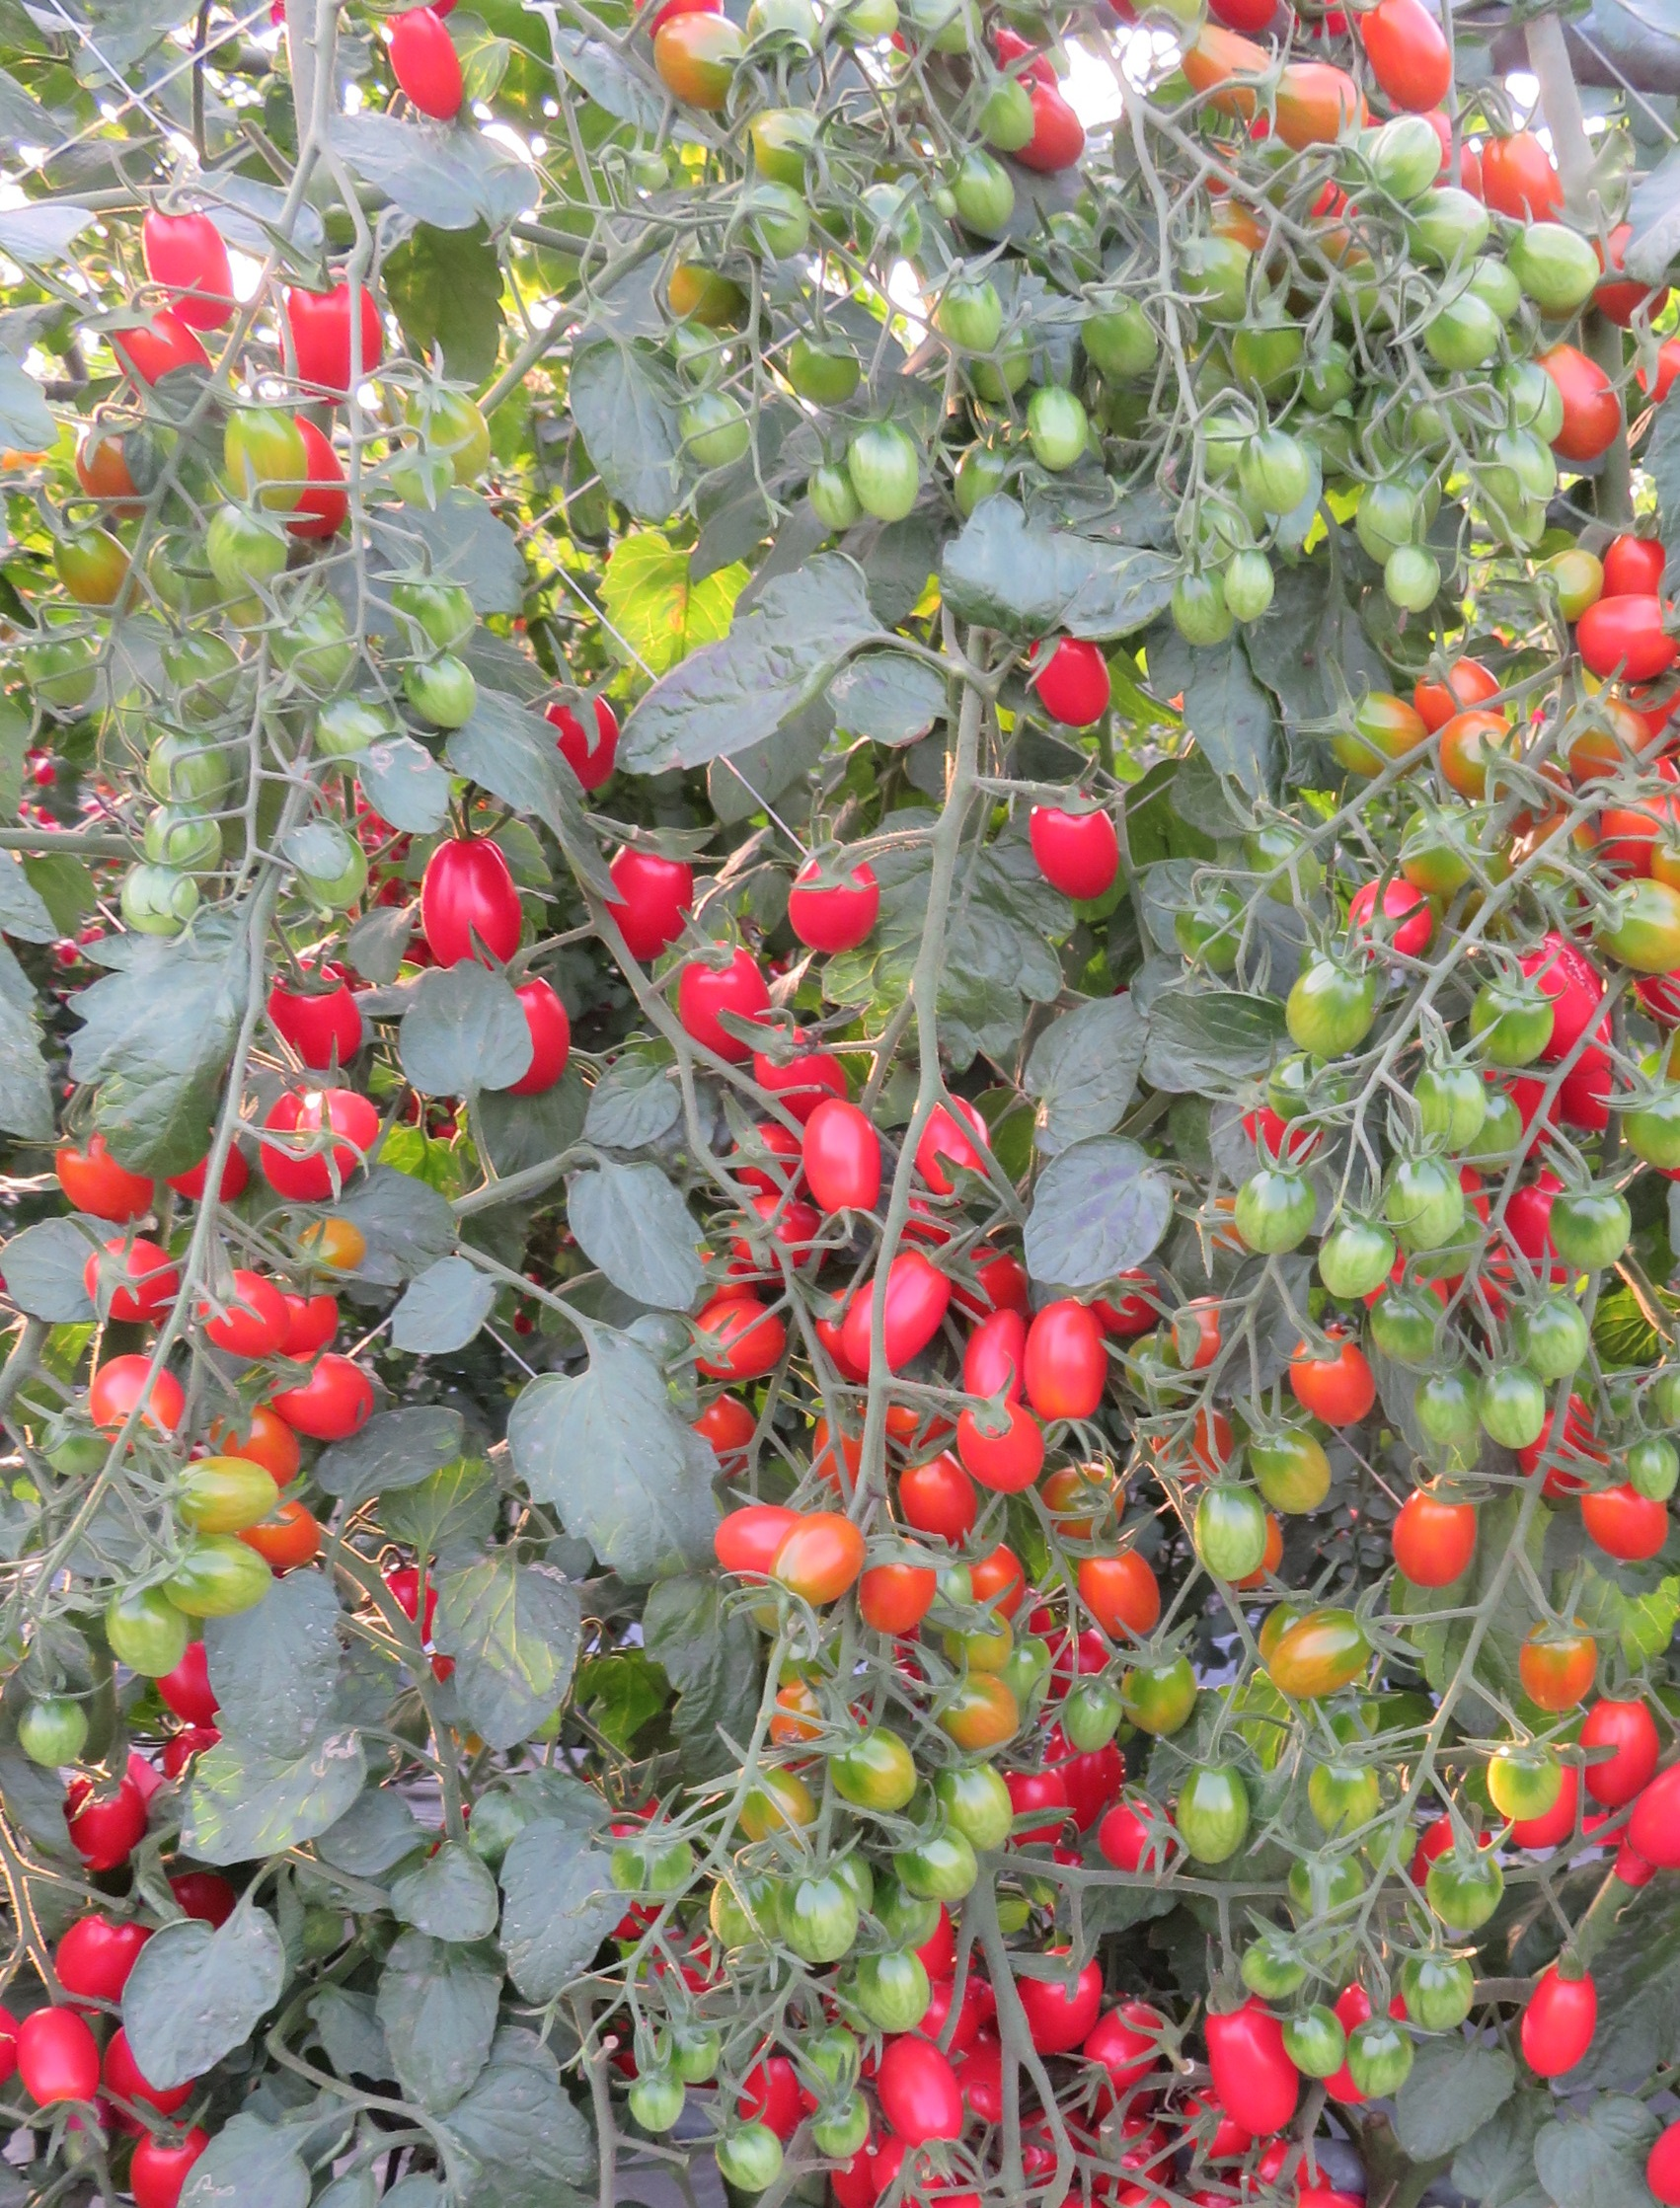green: (1262, 1608, 1382, 1701), (648, 12, 752, 106), (148, 1546, 282, 1618), (1286, 953, 1375, 1061), (95, 1578, 185, 1675), (1387, 1147, 1466, 1255), (164, 1453, 279, 1527), (1426, 1836, 1512, 1933), (289, 814, 371, 914), (1172, 882, 1260, 974), (408, 385, 487, 485), (1230, 1168, 1320, 1255), (55, 515, 136, 611), (780, 318, 868, 404), (1595, 882, 1680, 973), (1131, 1641, 1204, 1746), (1542, 1197, 1631, 1281), (1179, 1763, 1246, 1873), (852, 422, 921, 528), (222, 411, 305, 498), (1195, 1477, 1267, 1576), (1251, 1435, 1334, 1520), (838, 1731, 923, 1814), (1316, 1218, 1398, 1304), (787, 1873, 863, 1964), (942, 139, 1011, 240), (1405, 1936, 1475, 2033), (1472, 994, 1553, 1071), (1484, 427, 1558, 512), (1518, 221, 1590, 307), (891, 1832, 983, 1899), (1493, 355, 1565, 439), (611, 1823, 695, 1896), (1345, 2016, 1415, 2102), (731, 1767, 817, 1837), (1329, 685, 1396, 775), (208, 510, 281, 593), (1428, 289, 1500, 372), (1352, 475, 1424, 558), (9, 635, 108, 695), (1488, 1746, 1565, 1821), (711, 1874, 782, 1957), (1419, 1064, 1491, 1144), (953, 1763, 1024, 1844), (859, 1940, 928, 2023), (739, 180, 805, 267), (1369, 118, 1442, 196), (1608, 1094, 1680, 1172), (1279, 2000, 1352, 2077), (1403, 191, 1482, 261), (1234, 1940, 1316, 2007), (1528, 1297, 1594, 1382), (679, 387, 743, 473), (964, 78, 1036, 154), (1375, 1288, 1442, 1370), (1018, 395, 1091, 469), (1292, 1846, 1362, 1922), (1477, 1370, 1546, 1447), (709, 2123, 789, 2190), (1237, 307, 1292, 404), (739, 109, 822, 173), (1246, 427, 1309, 510), (143, 743, 235, 800), (1412, 1370, 1470, 1458), (1128, 1324, 1186, 1407), (138, 814, 226, 868), (14, 1694, 90, 1758), (1182, 238, 1244, 314), (1309, 1756, 1373, 1829), (1166, 574, 1228, 648), (828, 2, 916, 53), (1059, 1682, 1119, 1756), (942, 279, 1001, 355), (120, 874, 196, 930), (404, 584, 471, 648), (1094, 309, 1158, 374), (411, 665, 475, 729), (1295, 344, 1357, 409), (169, 639, 222, 713), (1221, 549, 1274, 623), (1382, 552, 1442, 618), (626, 2072, 694, 2130), (311, 706, 374, 764), (812, 2095, 870, 2155), (812, 462, 856, 538), (1632, 1440, 1680, 1509), (888, 1889, 939, 1950), (662, 2016, 713, 2070)
orange: (1385, 1490, 1484, 1585), (86, 1352, 182, 1446), (1267, 58, 1361, 148), (1177, 25, 1265, 120), (1551, 348, 1625, 461), (769, 1513, 863, 1601), (960, 1403, 1043, 1495), (1080, 1544, 1159, 1640), (1516, 1626, 1599, 1712), (1292, 1341, 1375, 1428), (1475, 132, 1560, 215), (1581, 1486, 1668, 1566), (902, 1449, 972, 1539), (164, 1640, 231, 1730), (709, 1495, 785, 1571), (1444, 710, 1521, 784), (851, 1573, 942, 1631), (1046, 1465, 1128, 1530), (951, 1677, 1022, 1742), (72, 427, 138, 494), (775, 1682, 826, 1740)
red: (416, 837, 519, 969), (1196, 2010, 1302, 2136), (1530, 930, 1622, 1066), (261, 964, 367, 1078), (1518, 1950, 1608, 2081), (1362, 2, 1458, 118), (870, 2033, 965, 2150), (1025, 789, 1124, 900), (1024, 1299, 1112, 1417), (143, 201, 235, 314), (792, 837, 881, 951), (381, 9, 469, 122), (55, 1133, 157, 1228), (198, 1265, 295, 1359), (53, 1906, 154, 1996), (268, 1352, 372, 1438), (106, 2023, 194, 2122), (19, 2003, 99, 2113), (609, 856, 686, 967), (71, 1767, 145, 1881), (685, 1297, 787, 1380), (85, 1235, 178, 1326), (1013, 1959, 1101, 2054), (545, 690, 625, 794), (1578, 593, 1675, 678), (506, 978, 575, 1096), (799, 1103, 874, 1213), (919, 1089, 994, 1198), (679, 957, 762, 1043), (1618, 1756, 1680, 1869), (745, 1038, 861, 1093), (1031, 648, 1114, 724), (1091, 2001, 1156, 2097), (893, 1257, 942, 1380), (1350, 879, 1435, 950), (948, 1246, 1032, 1315), (288, 289, 348, 387), (738, 2053, 812, 2130), (962, 1304, 1018, 1398), (1036, 76, 1084, 178), (127, 2136, 178, 2203), (115, 327, 201, 364)
